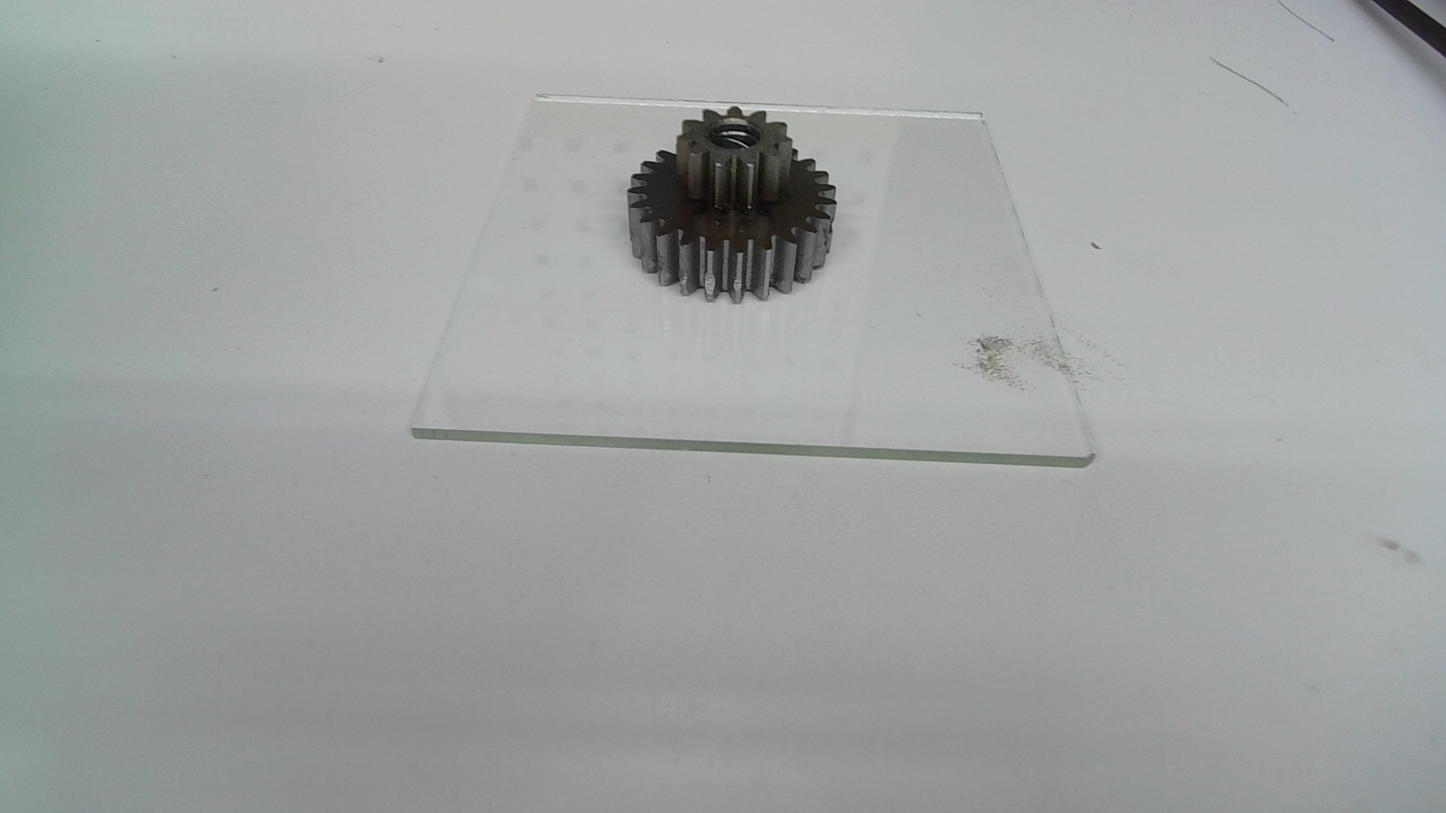gear: (624, 104, 839, 307)
